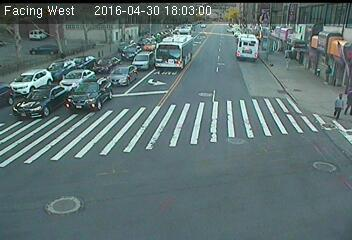neg: (13, 33, 50, 83), (223, 126, 259, 173), (189, 58, 223, 102), (300, 143, 330, 183), (136, 34, 166, 74), (73, 82, 102, 122), (186, 149, 215, 187), (15, 127, 41, 161), (131, 94, 155, 127), (237, 38, 261, 70), (63, 185, 85, 214)
pos: (321, 89, 345, 122), (321, 65, 337, 85), (281, 54, 294, 71)
